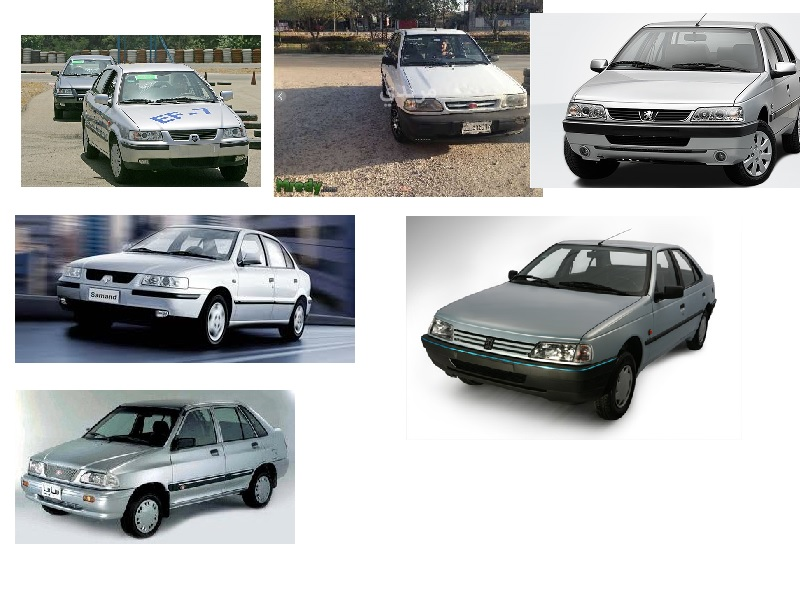peugeot: (423, 225, 725, 421), (556, 24, 800, 180)
pride: (19, 398, 287, 534), (366, 20, 529, 152)
samand: (52, 227, 318, 349), (73, 61, 250, 181)
